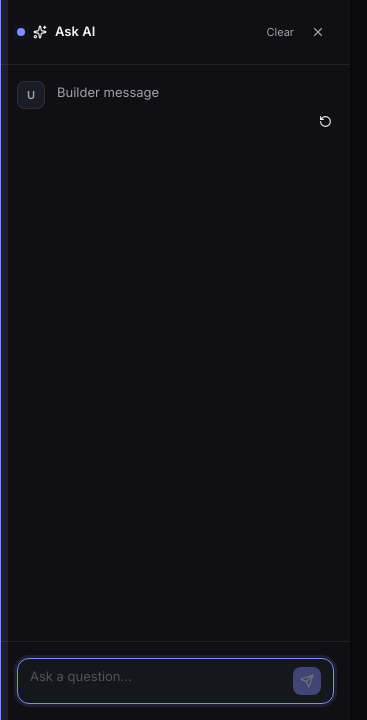
it: Real ChatPanel Component Tests › verifies clear chat handles multiple sessions properly
Expected: the text "Builder message" is shown, top-left (57, 84), bottom-right (159, 100)
Click the button with aria-label "Clear conversation": [280, 32] box top-left (266, 24), bottom-right (294, 40)
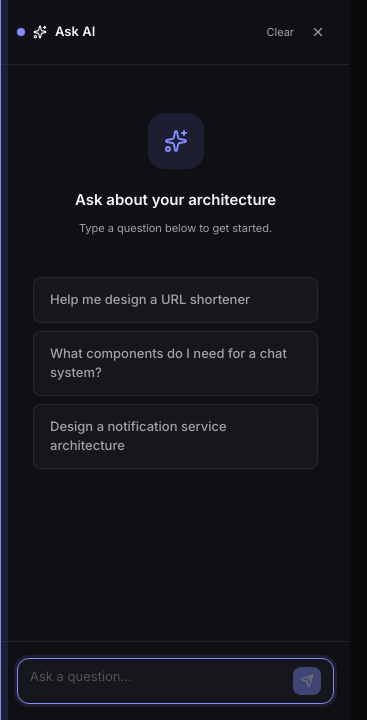
Expected: the text "Builder message" is gone
